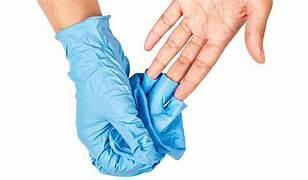Glove: (56, 16, 184, 175)
